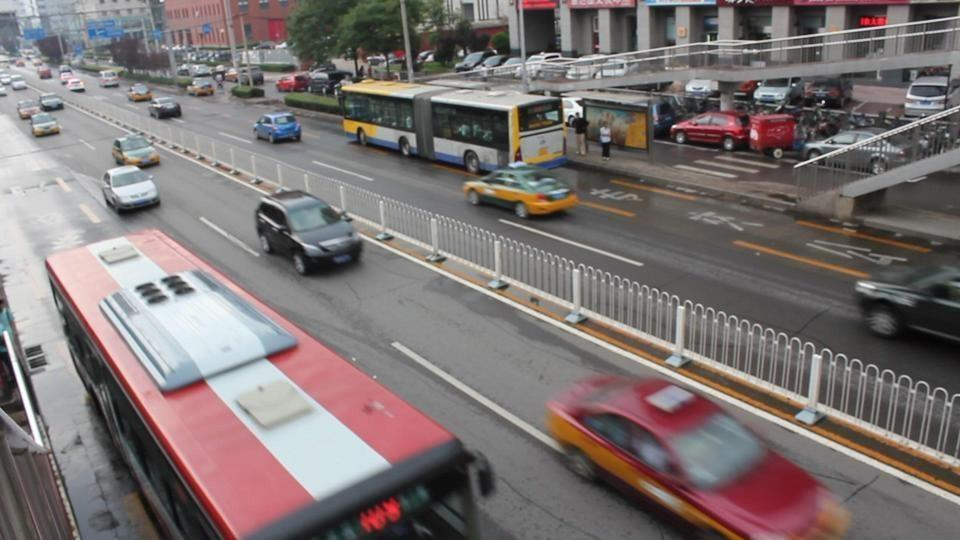car: (543, 371, 850, 539), (254, 188, 362, 273), (853, 259, 959, 345), (462, 163, 580, 220), (795, 129, 909, 174), (670, 111, 752, 151), (102, 165, 160, 213), (775, 77, 852, 109), (904, 72, 959, 116), (745, 75, 804, 111), (111, 131, 160, 168), (252, 112, 303, 143), (523, 52, 574, 79), (453, 51, 504, 75), (149, 96, 183, 120), (30, 113, 61, 138), (16, 95, 41, 122), (39, 95, 65, 111)
